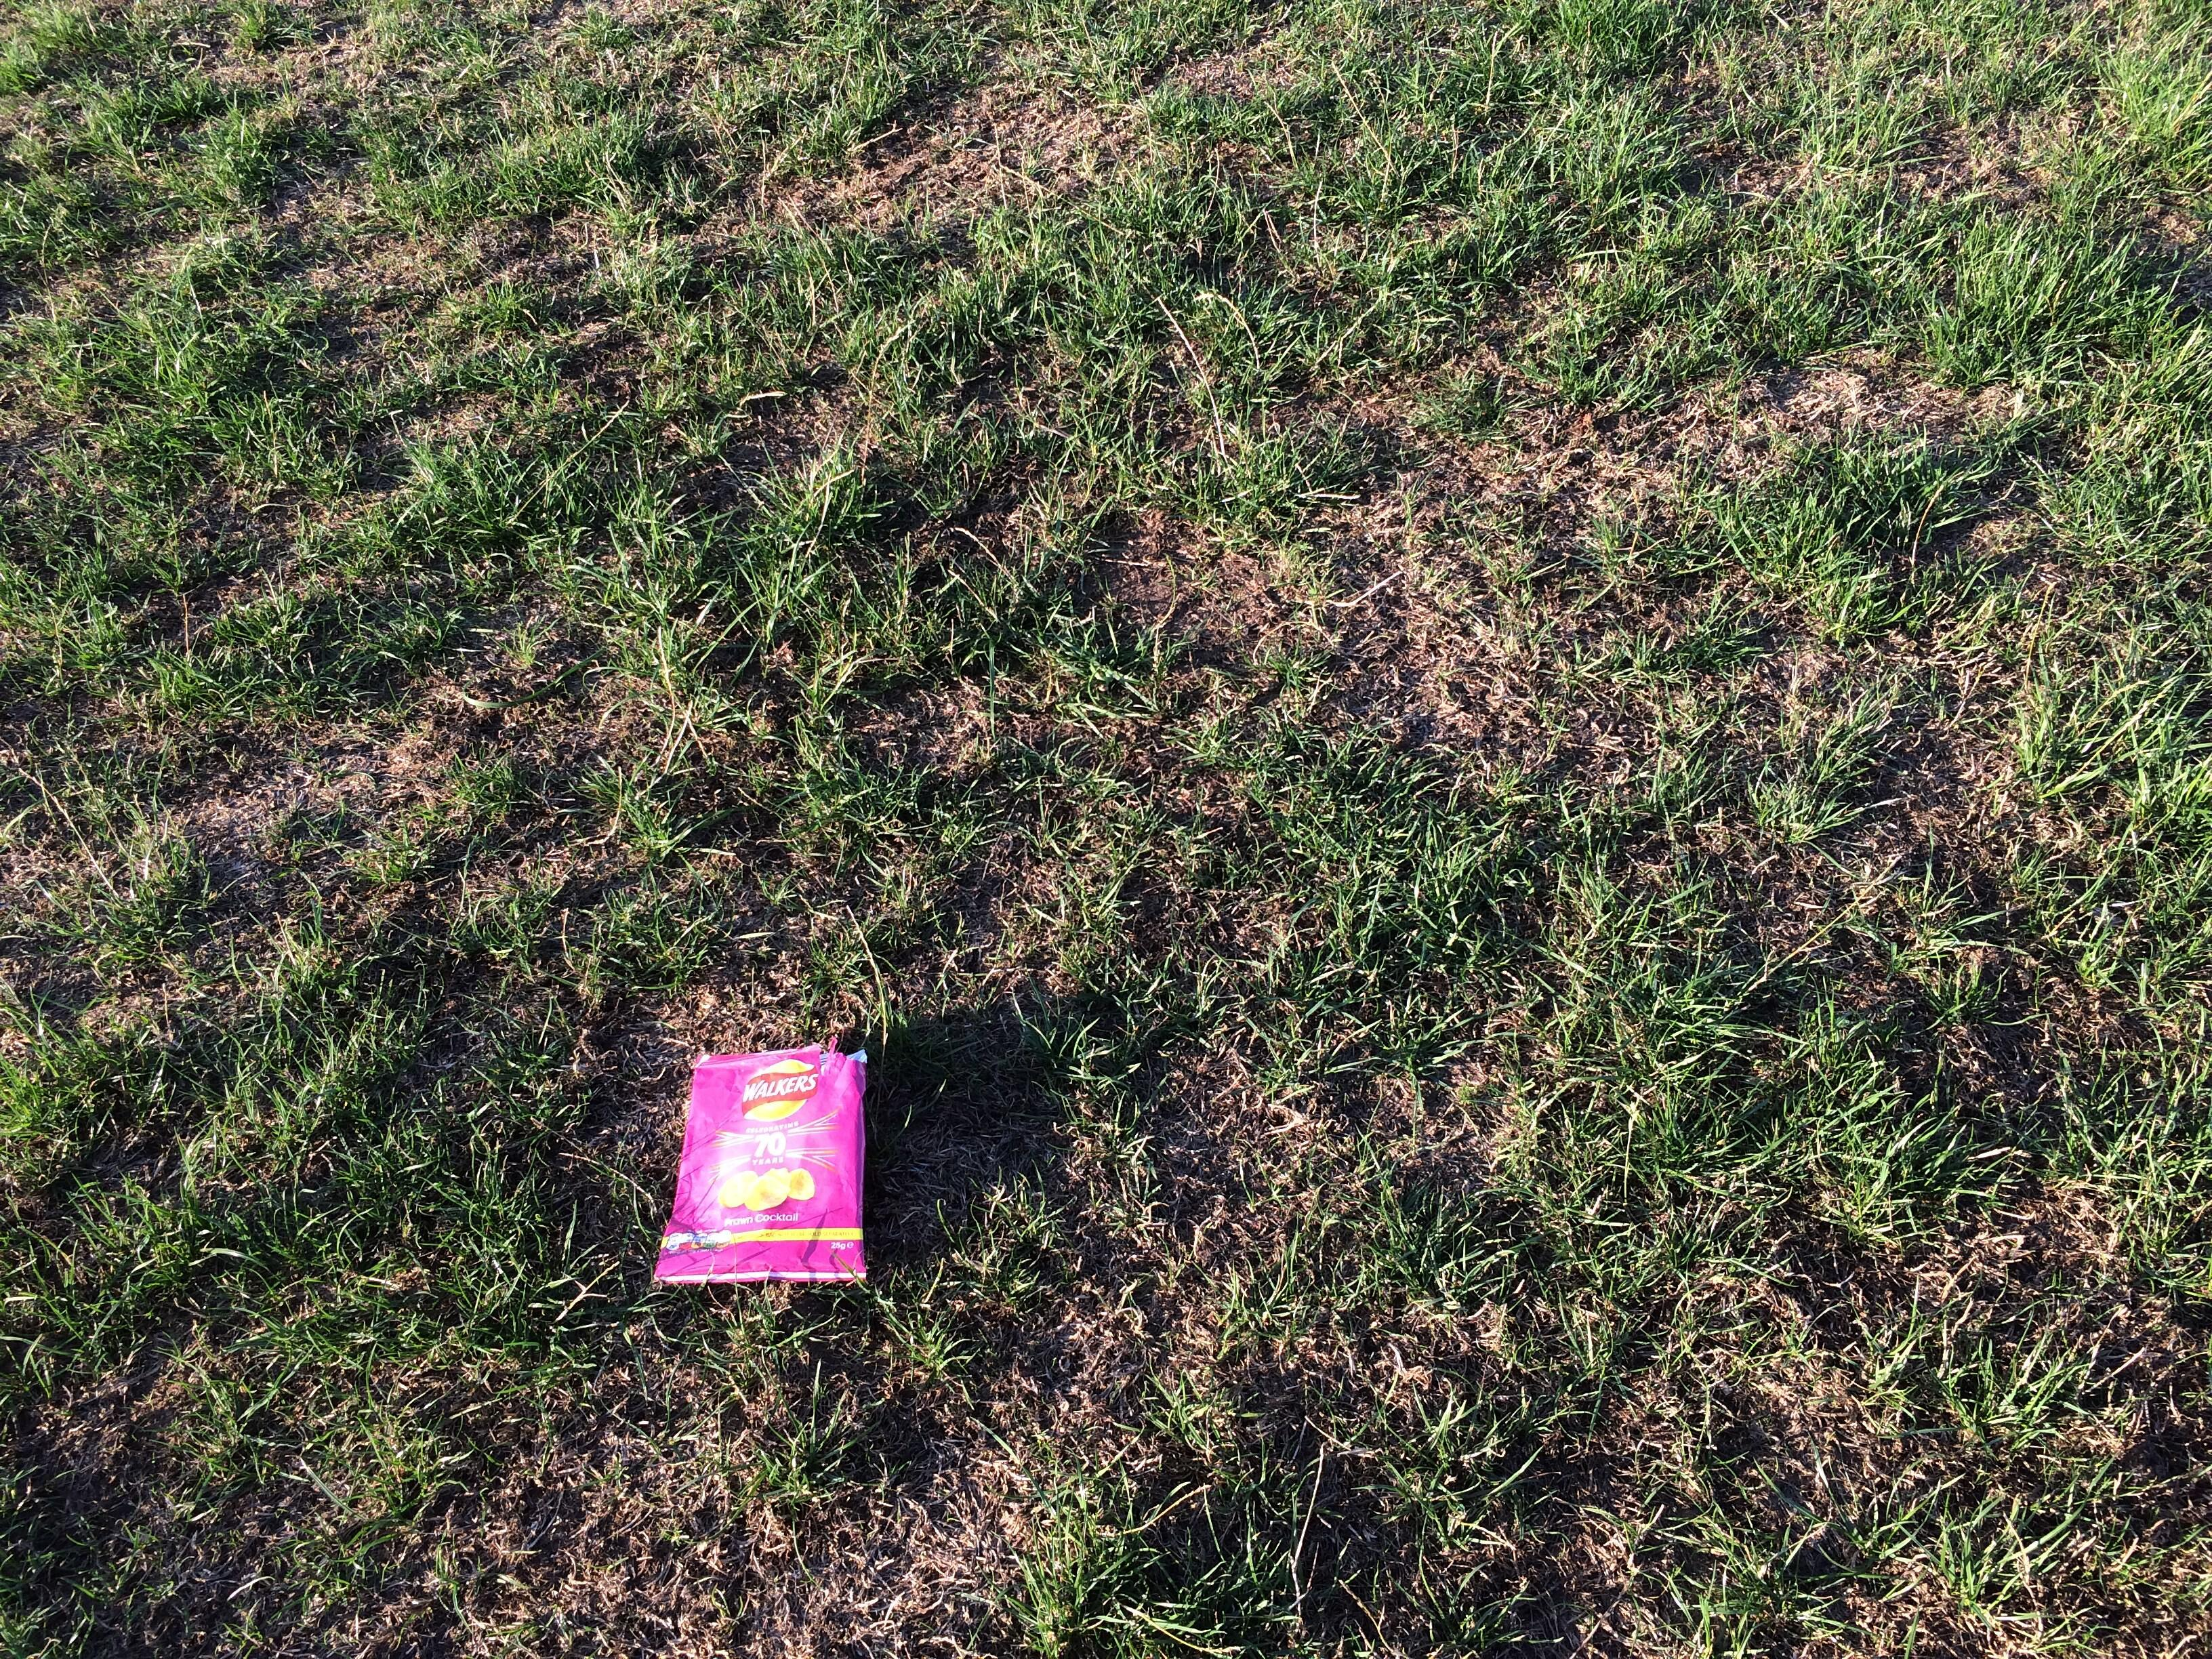Trash: (651, 1016, 876, 1291)
